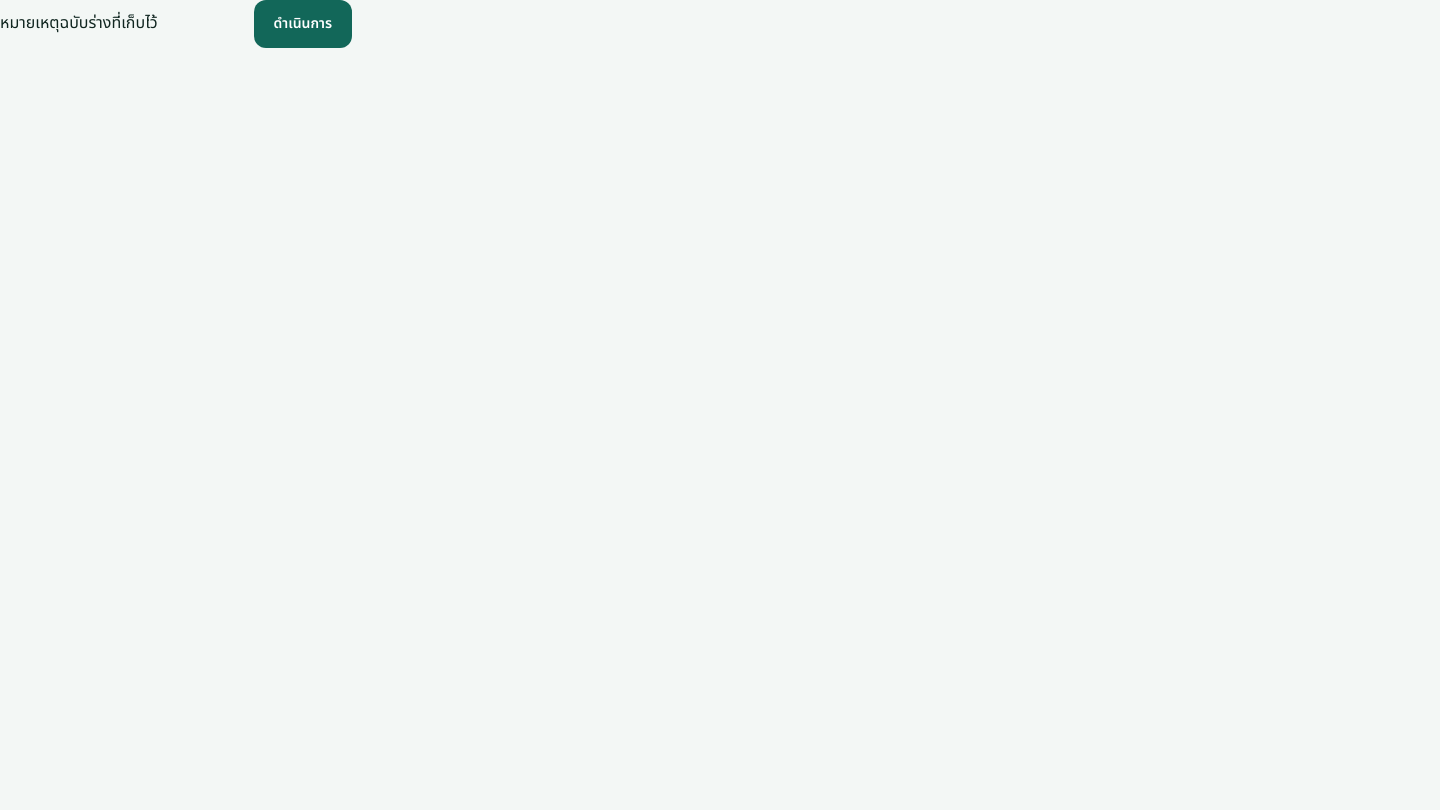
Test: ConfirmableActionForm › surfaces a FORBIDDEN server error without reporting success
Submit the form with test id "submit-action", box [0,0,352,48]
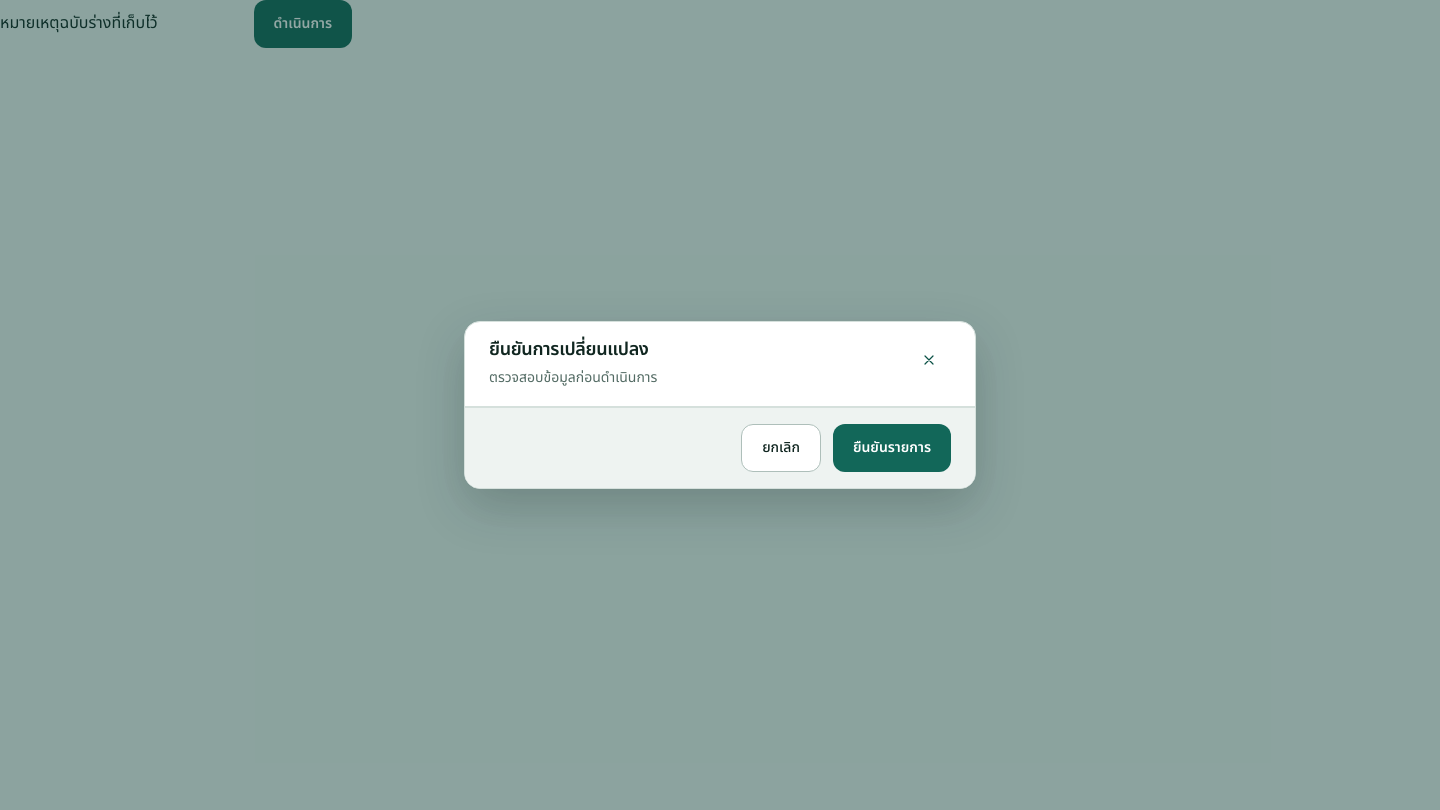
Click the button "ยืนยันรายการ" at (892, 448), box [833,424,951,472]
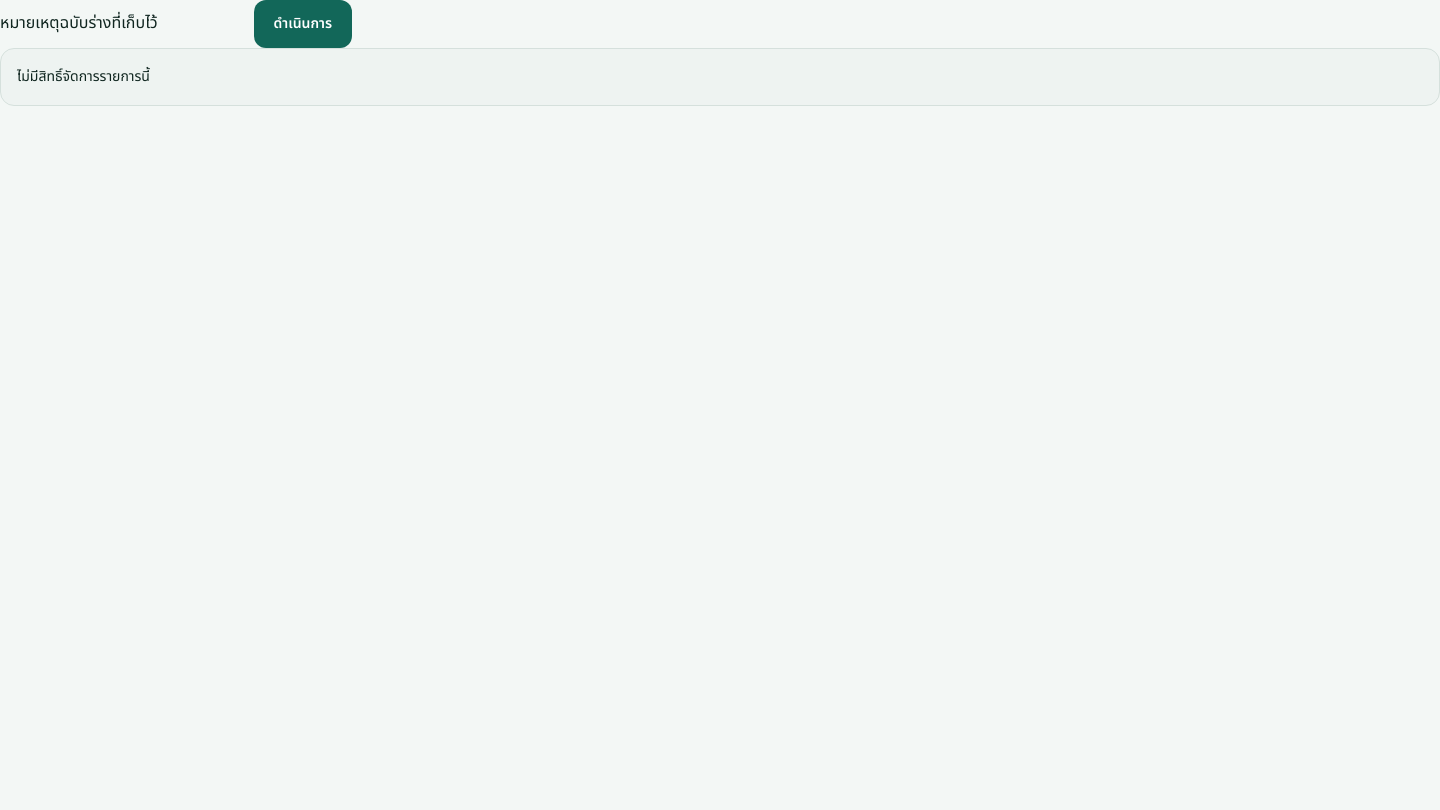
Result: the dialog is gone
Result: the message "ไม่มีสิทธิ์จัดการรายการนี้" is shown at [0,48,1439,106]
